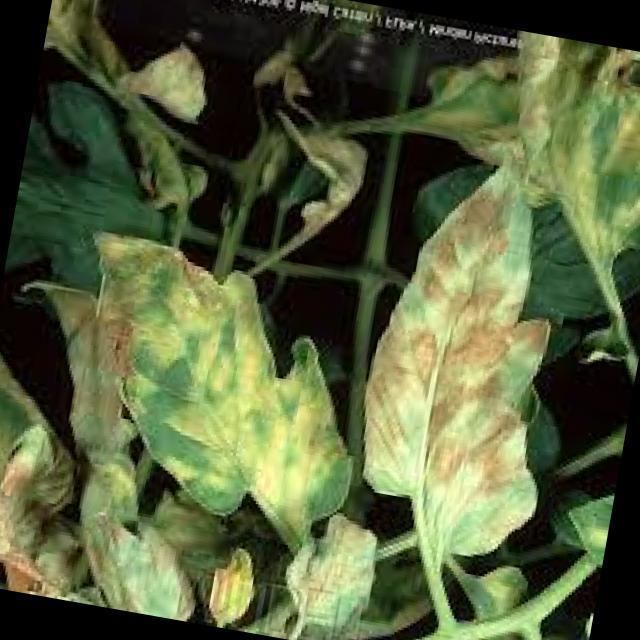Mosaic Virus: (70, 245, 360, 542), (374, 181, 558, 501)
